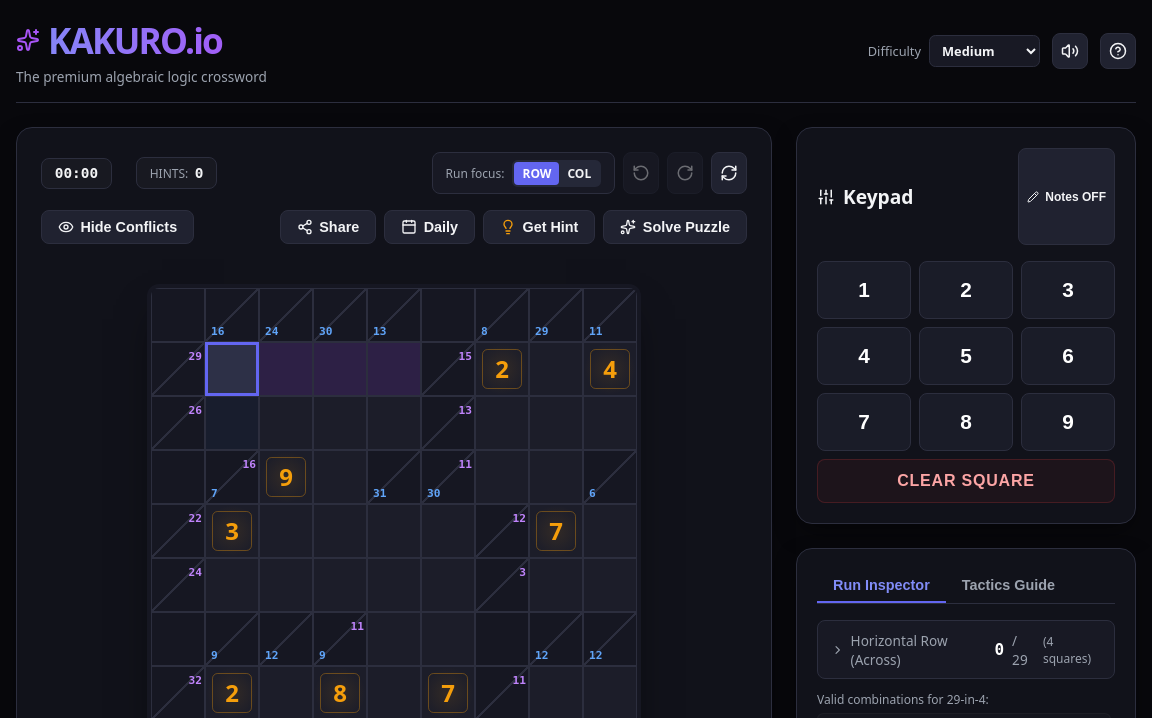
Test: App integration › asks for confirmation before solving the puzzle
Step 1. Click the button "Solve Puzzle" → click(675, 227), box [603, 210, 747, 244]
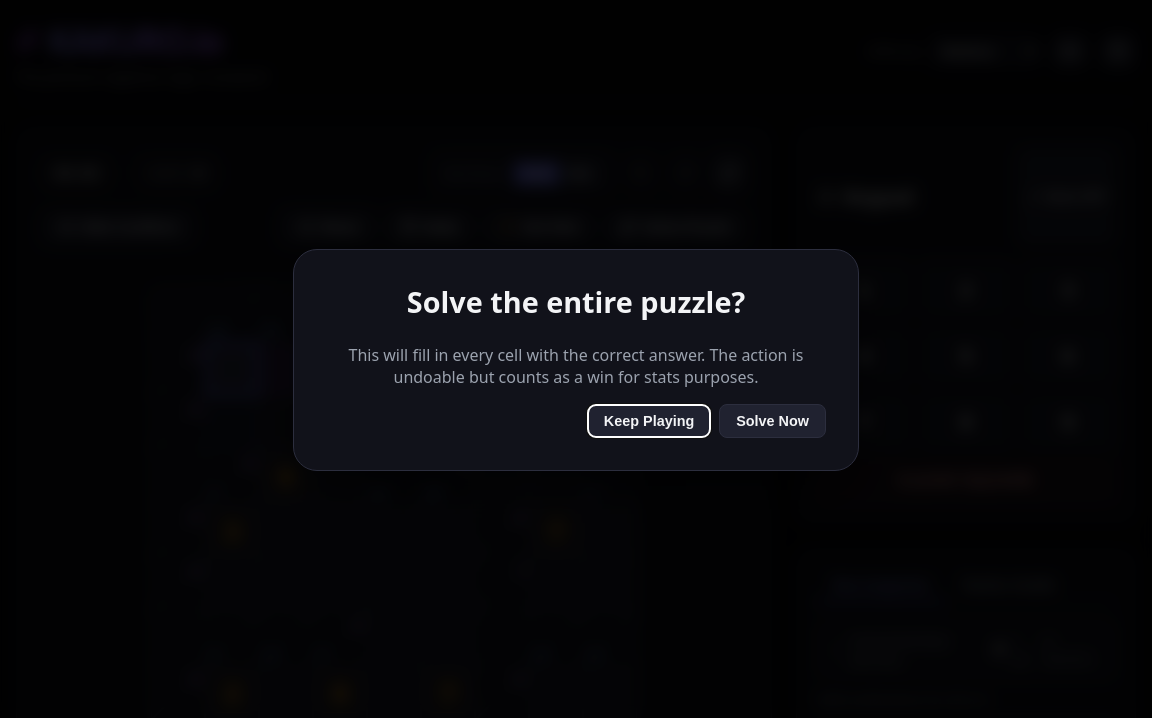
Check: the dialog is shown, box [293, 248, 859, 471]
# Backing out must leave the board unsolved.
Step 2. Click the button "Keep Playing" → click(649, 421), box [587, 404, 711, 438]
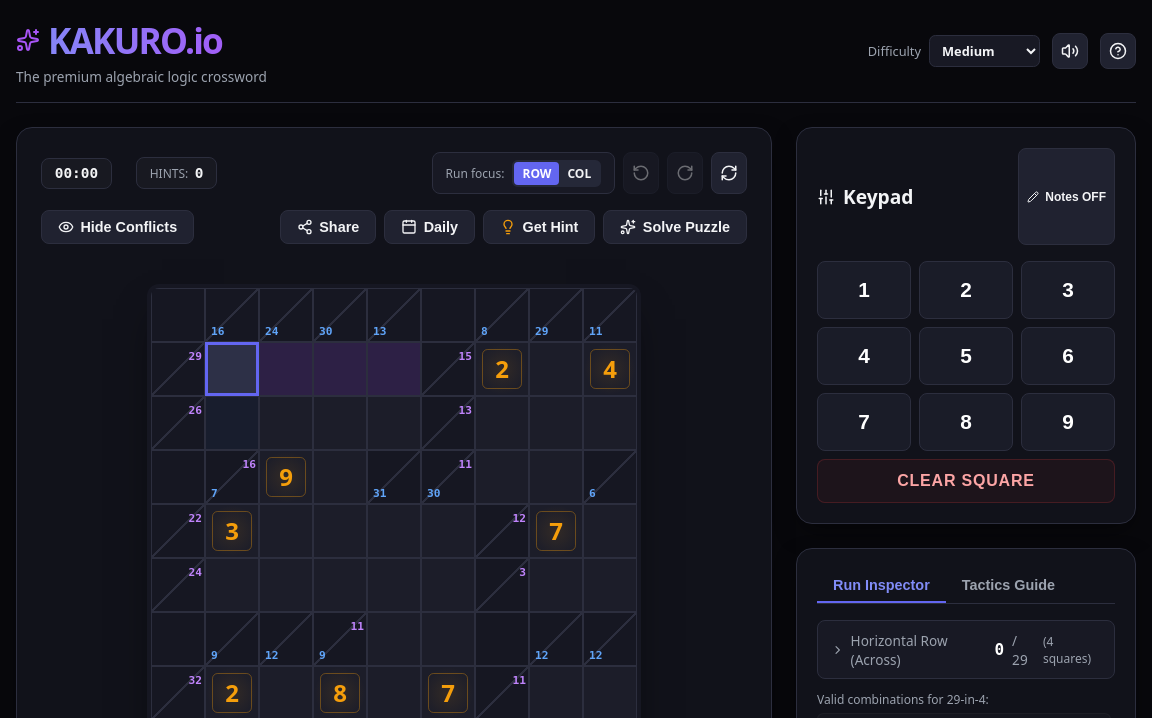
Check: the dialog is gone
